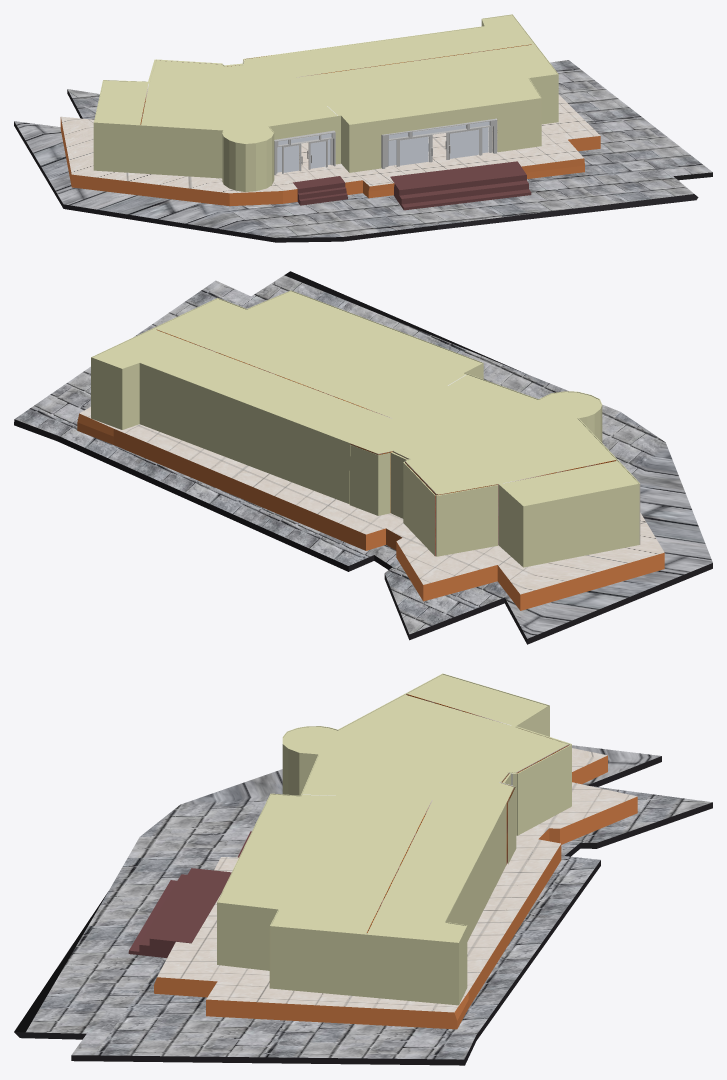
File: canteen.fbx
The picture shows the model from 3 angles, top to bottom: view 1: azimuth 30°, elevation 25°; view 2: azimuth 150°, elevation 25°; view 3: azimuth 270°, elevation 25°; orthographic projection. The views are drawn at different scales.
Parts seen in each view (by area): view 1: nóc, Tườngbao.002, Tườngbao.001, Tườngbao.005, bậcthang, Cửaravào, bậcthang.001, Cửaravào.001, Box025, Box012; view 2: nóc, Tườngbao.002, Tườngbao.001, Tườngbao.005, Tườngbao.004; view 3: nóc, Tườngbao.002, Tườngbao.005, Tườngbao.001, bậcthang, Tườngbao.004.
Boxes of the visible parts, x1=… form: nóc: x1=94, y1=15, x2=557, y2=144; Tườngbao.002: x1=14, y1=60, x2=712, y2=242; Tườngbao.001: x1=93, y1=14, x2=558, y2=191; Tườngbao.005: x1=60, y1=94, x2=600, y2=206; bậcthang: x1=390, y1=161, x2=531, y2=210; Cửaravào: x1=388, y1=121, x2=489, y2=165; bậcthang.001: x1=293, y1=176, x2=347, y2=205; Cửaravào.001: x1=277, y1=133, x2=331, y2=172; Box025: x1=381, y1=118, x2=496, y2=168; Box012: x1=385, y1=122, x2=469, y2=140; nóc: x1=92, y1=291, x2=638, y2=505; Tườngbao.002: x1=14, y1=271, x2=712, y2=644; Tườngbao.001: x1=91, y1=290, x2=640, y2=567; Tườngbao.005: x1=77, y1=407, x2=664, y2=610; Tườngbao.004: x1=349, y1=444, x2=497, y2=556; nóc: x1=218, y1=674, x2=566, y2=943; Tườngbao.002: x1=14, y1=745, x2=712, y2=1065; Tườngbao.005: x1=154, y1=748, x2=637, y2=1029; Tườngbao.001: x1=217, y1=673, x2=568, y2=1005; bậcthang: x1=128, y1=868, x2=231, y2=957; Tườngbao.004: x1=502, y1=743, x2=571, y2=864.
Size of the model in its own units: 6483 by 777 by 5732.
